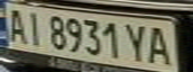1: (100, 19, 124, 60)
3: (81, 17, 103, 56)
8: (45, 12, 69, 51)
9: (63, 16, 84, 54)
A: (142, 23, 178, 66), (3, 6, 30, 44)
I: (21, 8, 48, 46)
Y: (121, 20, 151, 64)
